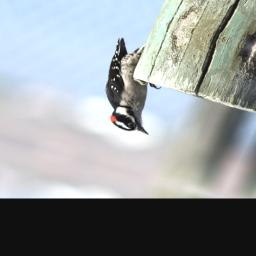Woodpecker: (81, 37, 186, 137)
